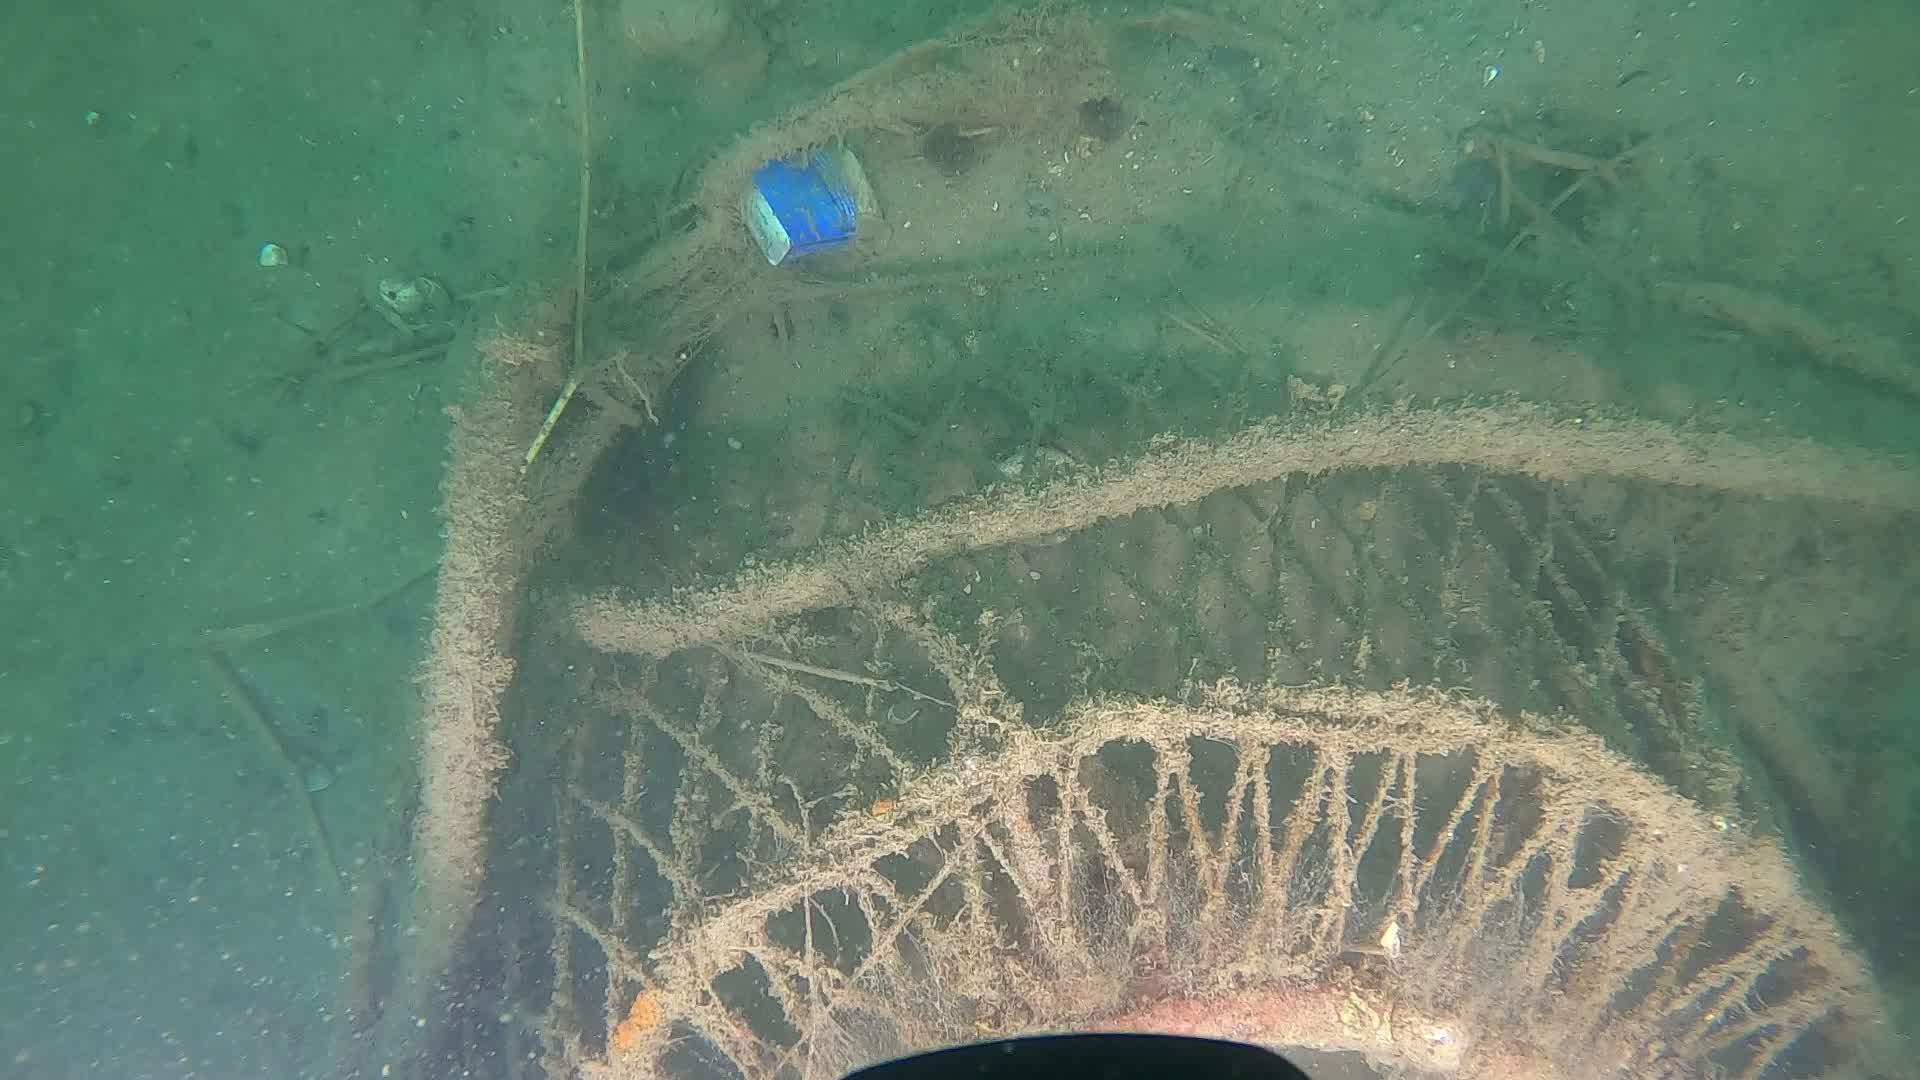circular fish trap: (429, 338, 1909, 1080)
